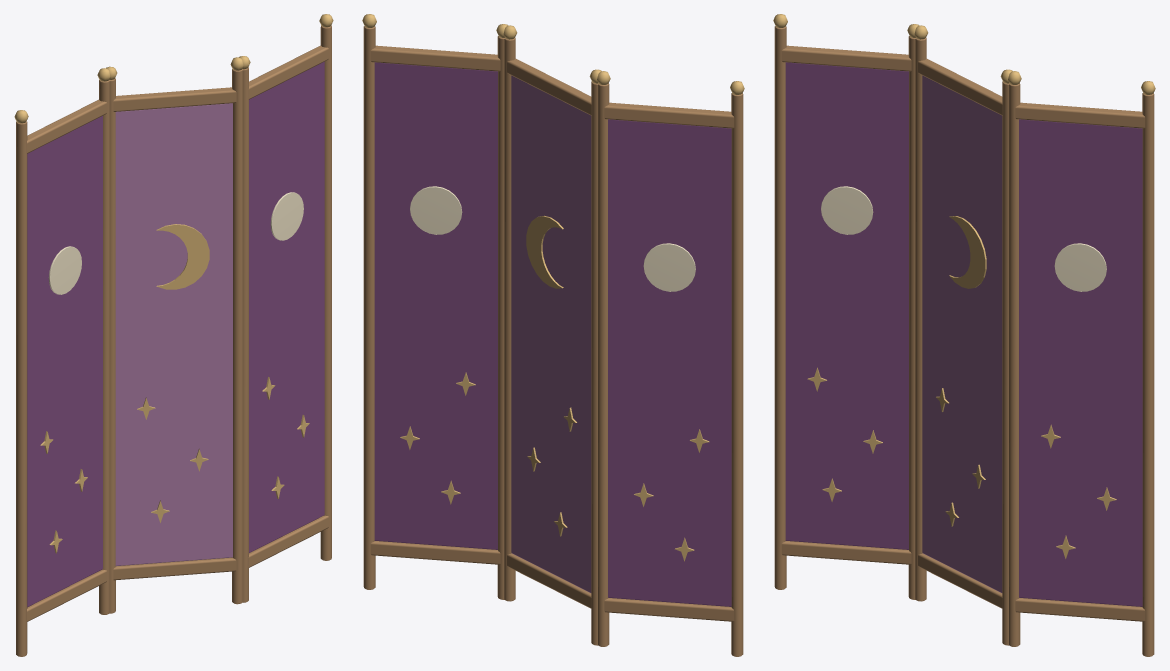
File: Moon_Folding_Screen.fbx
The picture shows the model from 3 angles, left to right: view 1: azimuth 30°, elevation 25°; view 2: azimuth 150°, elevation 25°; view 3: azimuth 330°, elevation 25°; orthographic projection. The views are drawn at different scales.
Visible parts, largest first — view 1: Moon_Folding_Screen_Mesh; view 2: Moon_Folding_Screen_Mesh; view 3: Moon_Folding_Screen_Mesh.
Part boxes in pixels (x1,y1,x2,y2): Moon_Folding_Screen_Mesh: [14, 14, 333, 656]; Moon_Folding_Screen_Mesh: [362, 14, 744, 656]; Moon_Folding_Screen_Mesh: [773, 14, 1155, 656].
Size of the model in its own units: 1.09 by 1.67 by 0.161.
